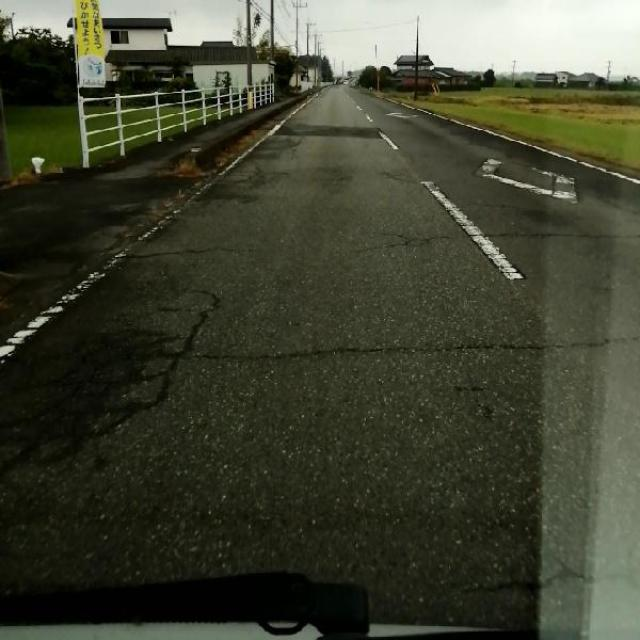Crack: (61, 268, 270, 459)
